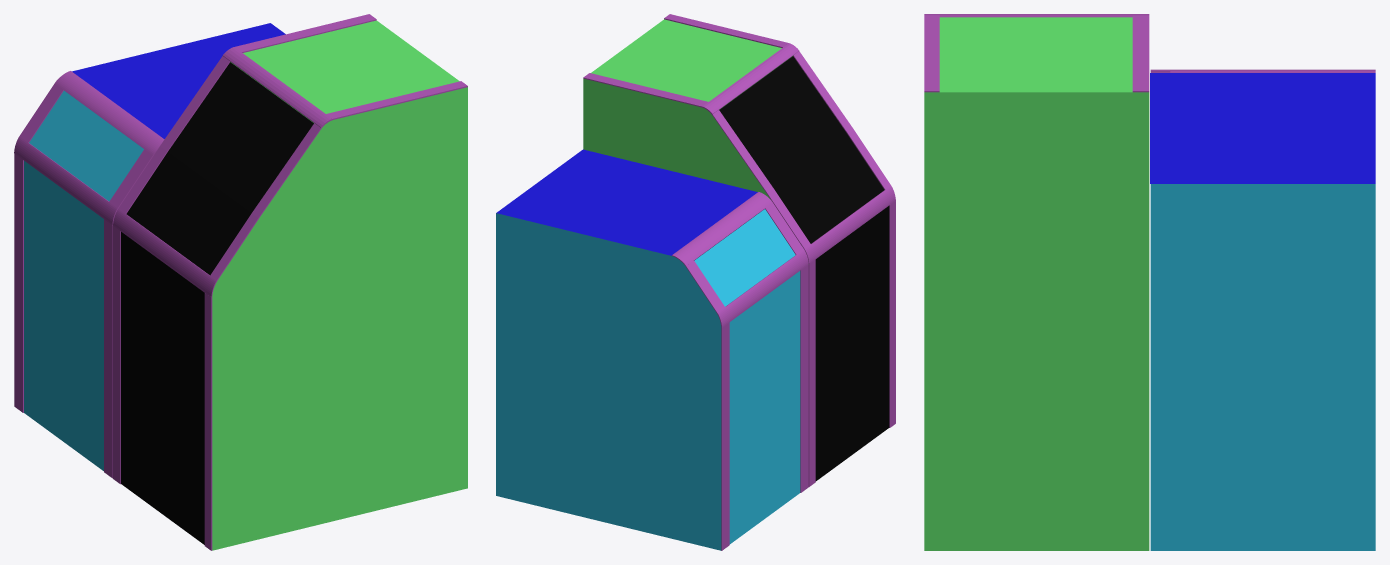
The model's file is machine4.fbx.
3 views of the same model, side by side, from view 1: azimuth 30°, elevation 25°; view 2: azimuth 150°, elevation 25°; view 3: azimuth 270°, elevation 25° (orthographic). The views are drawn at different scales.
Visible parts, largest first — view 1: Cube.001; view 2: Cube.001; view 3: Cube.001.
Boxes of the visible parts, x1,y1,x2,y2 form: Cube.001: [14, 14, 467, 550]; Cube.001: [496, 14, 895, 550]; Cube.001: [924, 14, 1375, 550].
Size of the model in its own units: 76.47 by 115 by 102.
